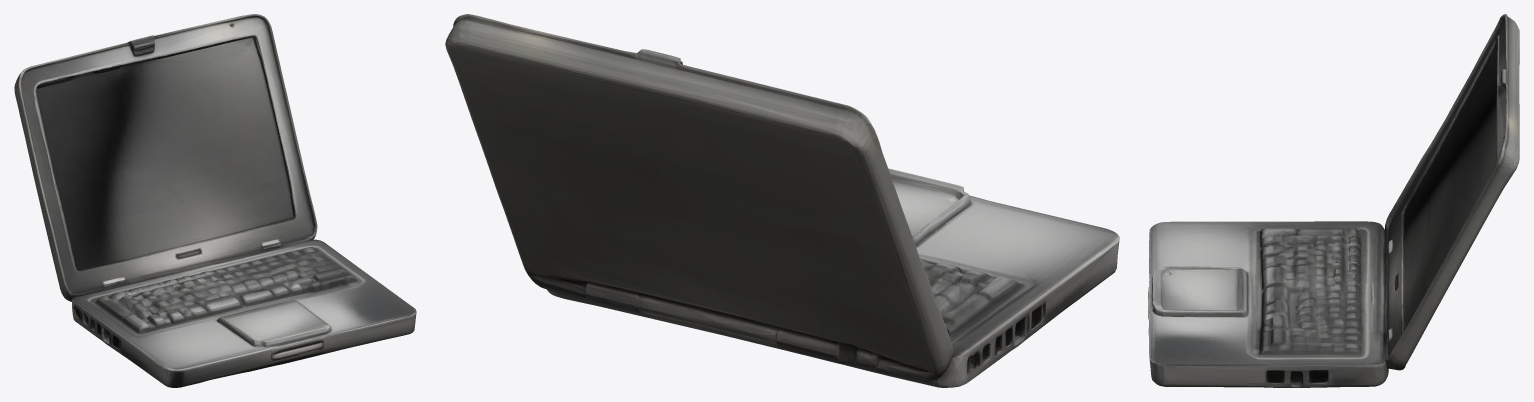
File: laptop.glb
3 renders of one model, left to right at view 1: azimuth 30°, elevation 25°; view 2: azimuth 150°, elevation 25°; view 3: azimuth 270°, elevation 25°, orthographic. The views are drawn at different scales.
Parts seen in each view (by area): view 1: world; view 2: world; view 3: world.
Part boxes in pixels (x1=…): world: x1=14, y1=14, x2=416, y2=387; world: x1=445, y1=14, x2=1119, y2=387; world: x1=1148, y1=14, x2=1519, y2=387.
Bounding box in the file's own units: 0.8985 × 0.7254 × 0.9968.
Materials: 1 (1 with a texture image).
